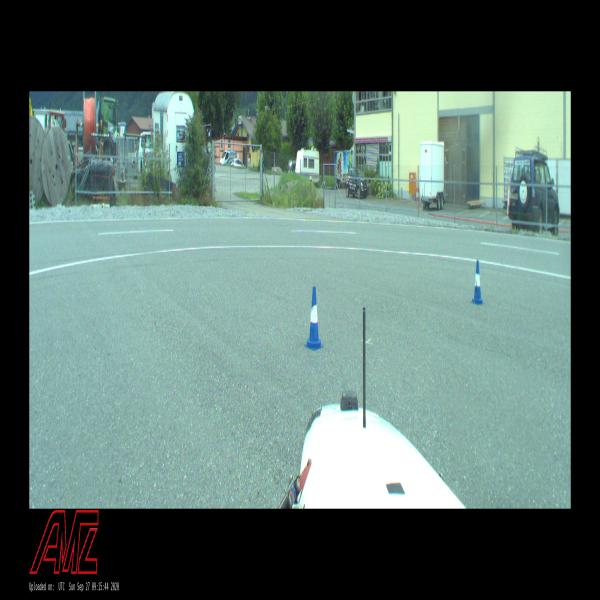blue_cone: (305, 287, 323, 351), (470, 261, 484, 305)
